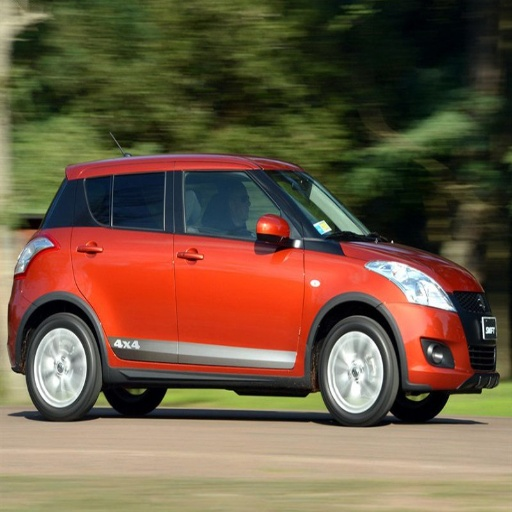back_right_door: (72, 164, 178, 366)
front_bumper: (398, 305, 482, 389)
front_right_door: (174, 166, 304, 367)
front_right_light: (375, 261, 452, 308)
